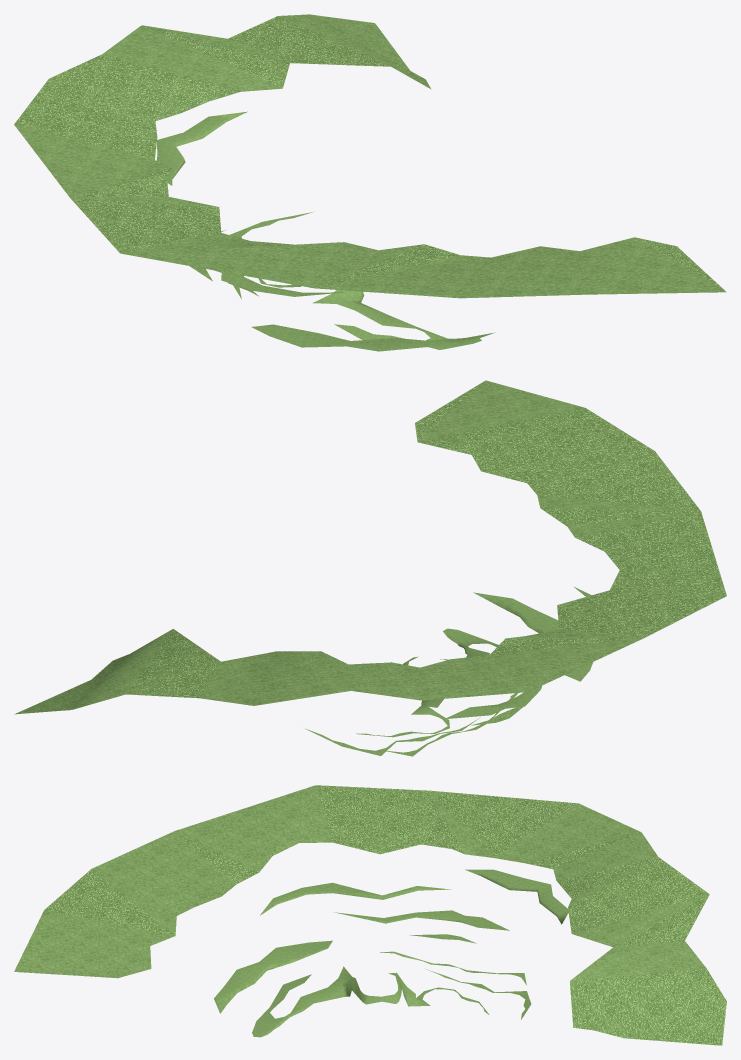
The model's file is kd_stage_135fe0_2_1.glb.
The picture shows the model from 3 angles, top to bottom: view 1: azimuth 30°, elevation 25°; view 2: azimuth 150°, elevation 25°; view 3: azimuth 270°, elevation 25°; orthographic projection. The views are drawn at different scales.
Parts seen in each view (by area): view 1: kd_stage_135fe0_2_1; view 2: kd_stage_135fe0_2_1; view 3: kd_stage_135fe0_2_1.
Part boxes in pixels (x1,y1,x2,y2): kd_stage_135fe0_2_1: (14,14,726,351); kd_stage_135fe0_2_1: (14,380,726,756); kd_stage_135fe0_2_1: (14,785,726,1045).
Size of the model in its own units: 210 by 59.5 by 310.
1 material, 1 textured.
